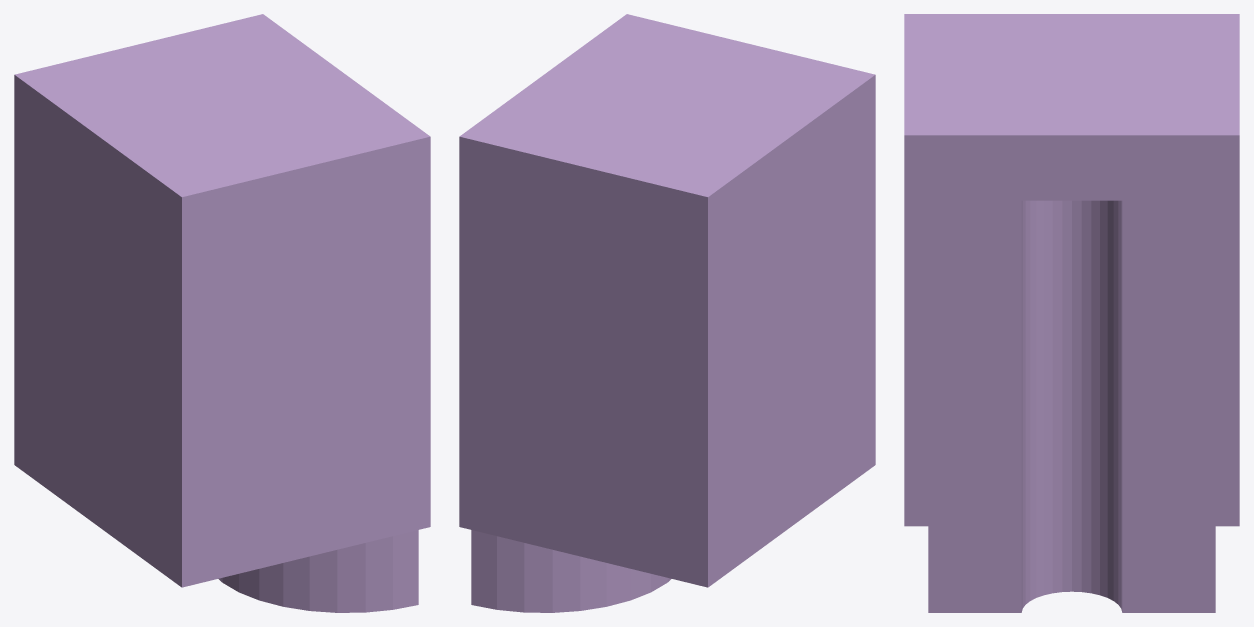
Rendered from setscrew_demo.glb.
3 views of the same model, side by side, from view 1: azimuth 30°, elevation 25°; view 2: azimuth 150°, elevation 25°; view 3: azimuth 270°, elevation 25° (orthographic).
Parts seen in each view (by area): view 1: setscrew_cutaway; view 2: setscrew_cutaway; view 3: setscrew_cutaway.
Part boxes in pixels (x1,y1,x2,y2): setscrew_cutaway: (14,14,430,612); setscrew_cutaway: (459,14,875,612); setscrew_cutaway: (904,14,1239,612).
Bounding box in the file's own units: 12 × 22 × 14.
